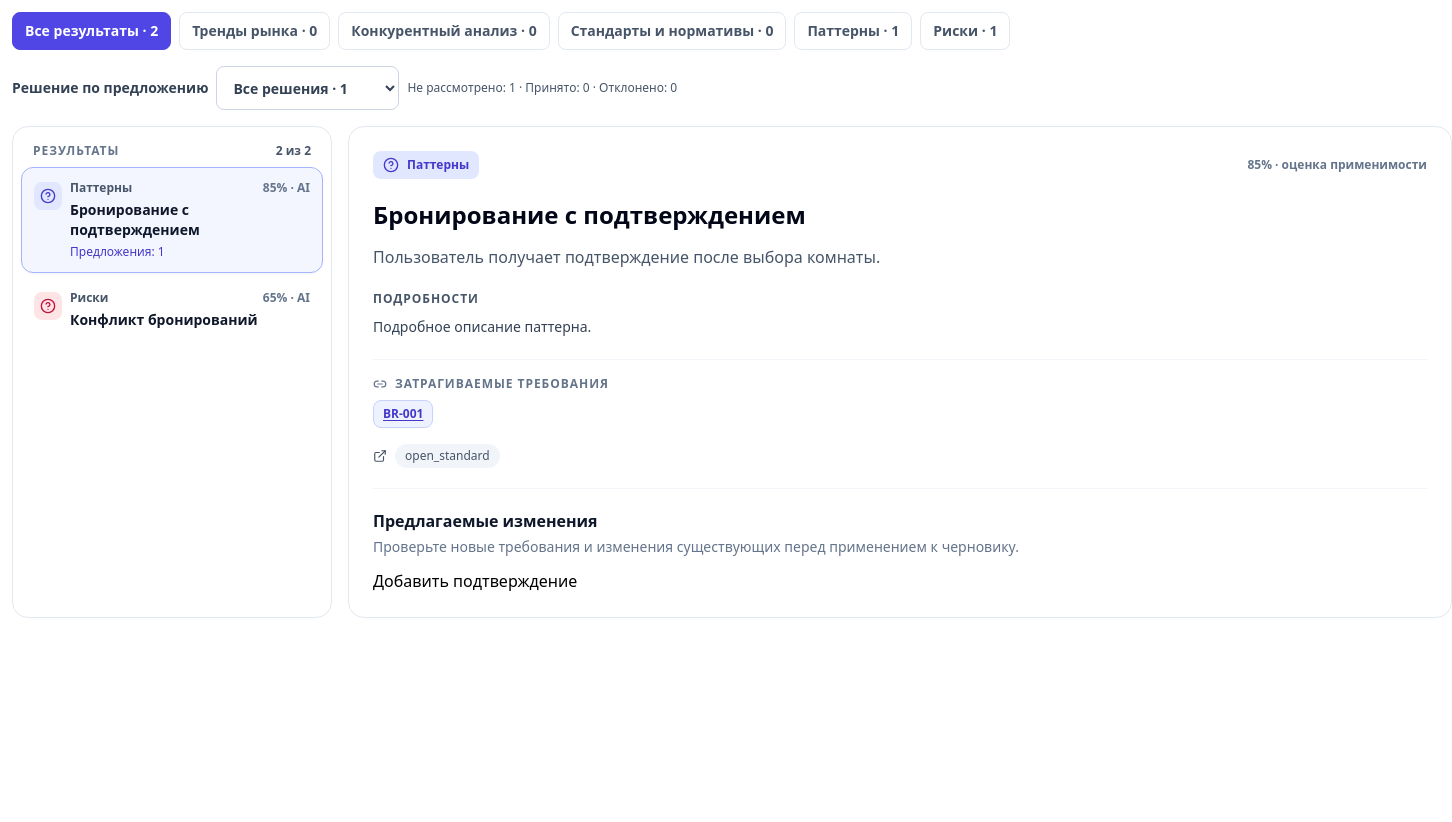
Test: keeps the selected result detail complete while filtering the split view
Check: the heading "Бронирование с подтверждением" is shown, box [373,198,806,231]
Check: the text "85% · оценка применимости" is shown, box [1247,157,1427,173]
Click the button "Риски · 1" at (965, 31), box [920,12,1010,50]
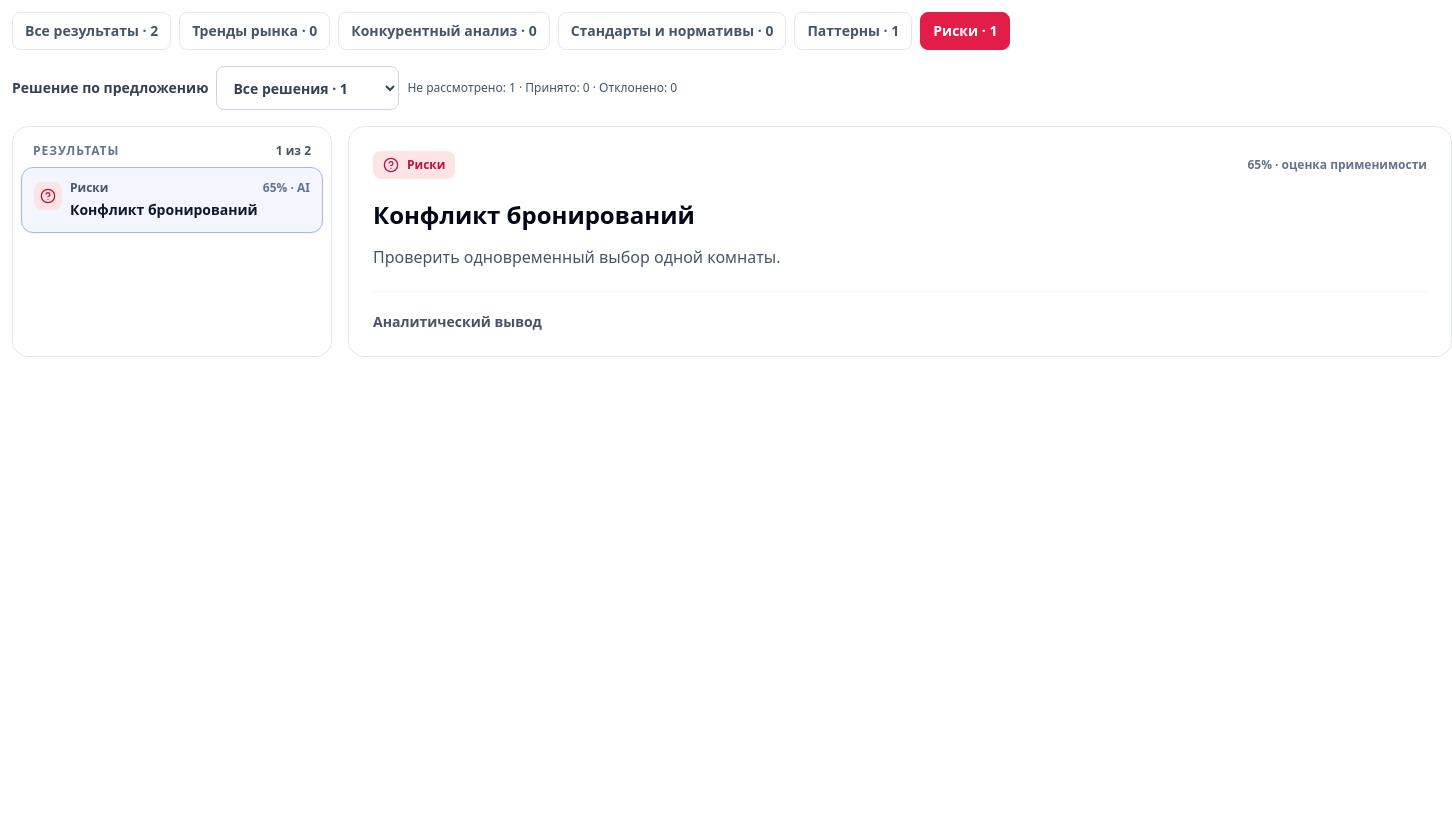
Check: the heading "Конфликт бронирований" is shown, box [373,198,695,231]
Check: the button "Бронирование с подтверждением" is gone
